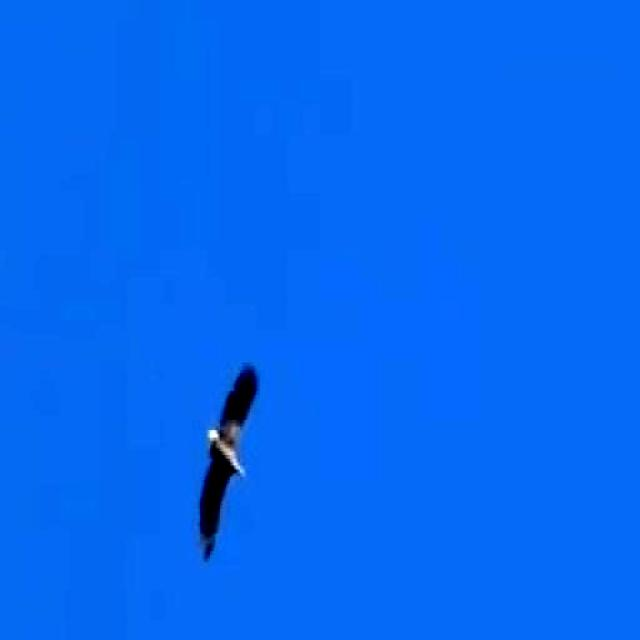airplane: (200, 336, 266, 592)
